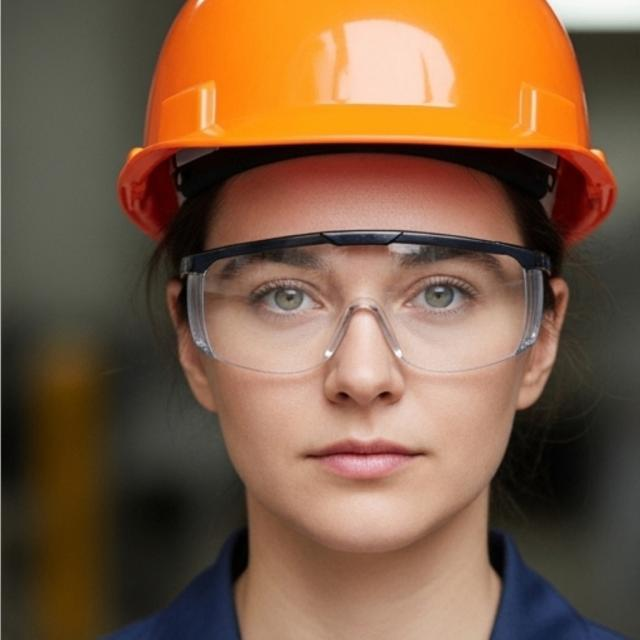oculos-epi: (181, 230, 548, 374)
